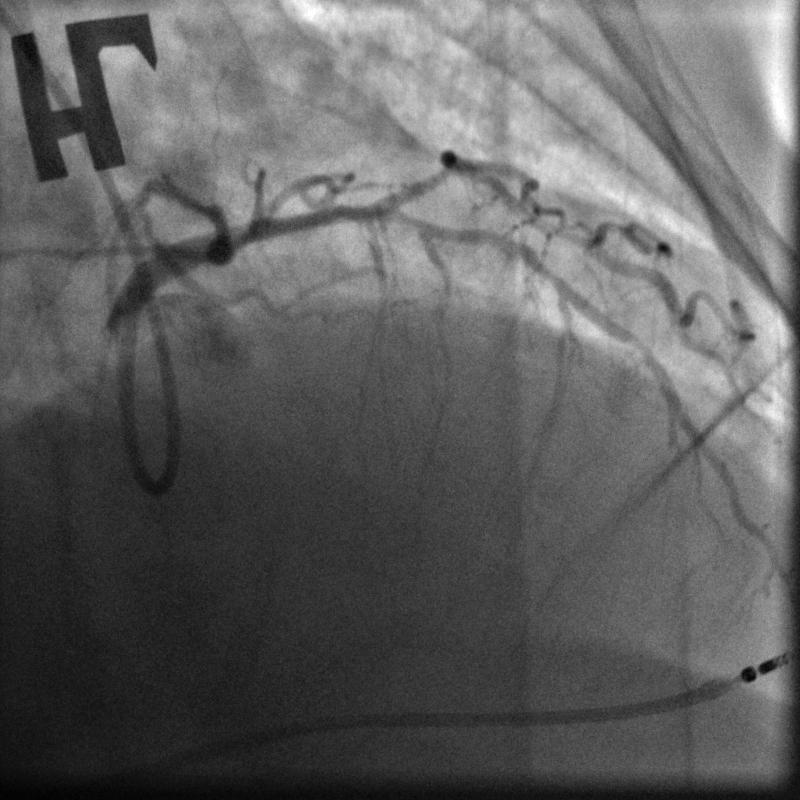Stenosis: (472, 226, 538, 262)
